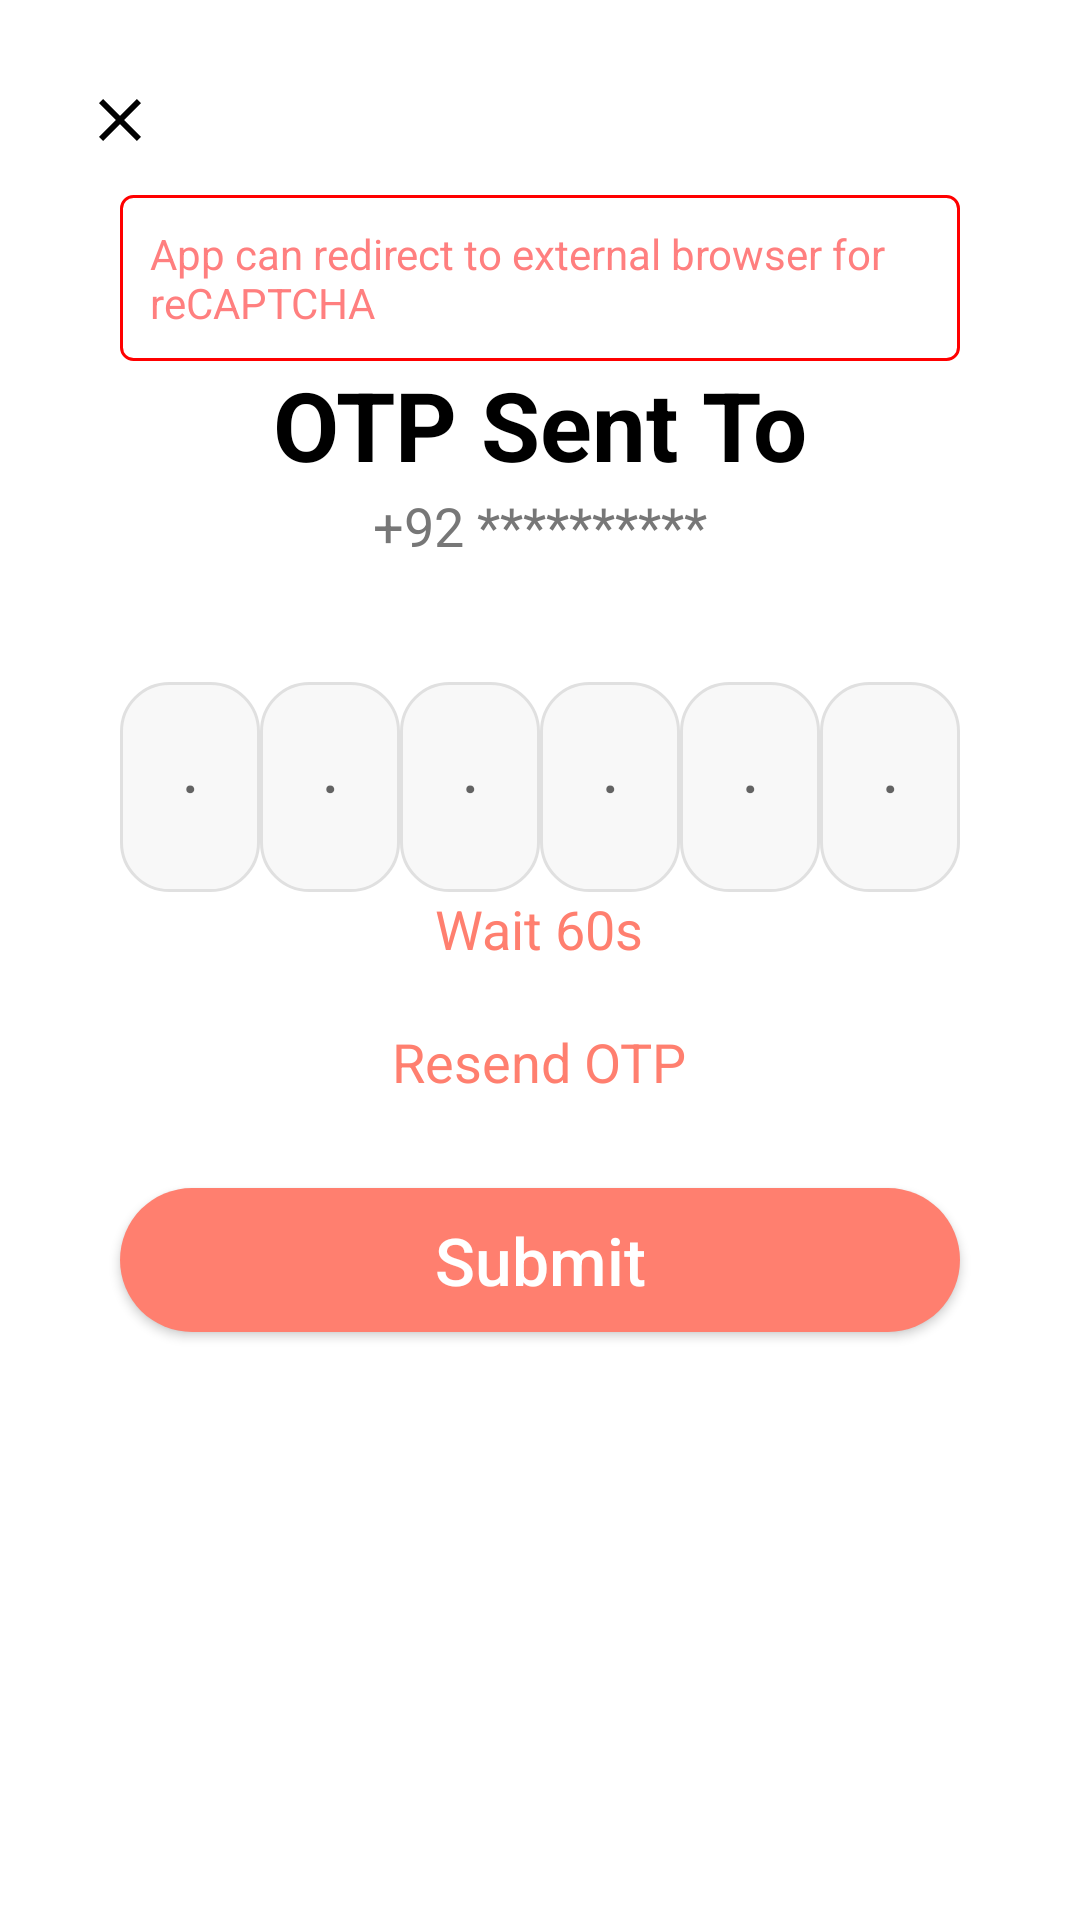

Point at icon controls on the screen. Image size 1080x1920, points as point (x, y).
Close Button: point (120, 120)
